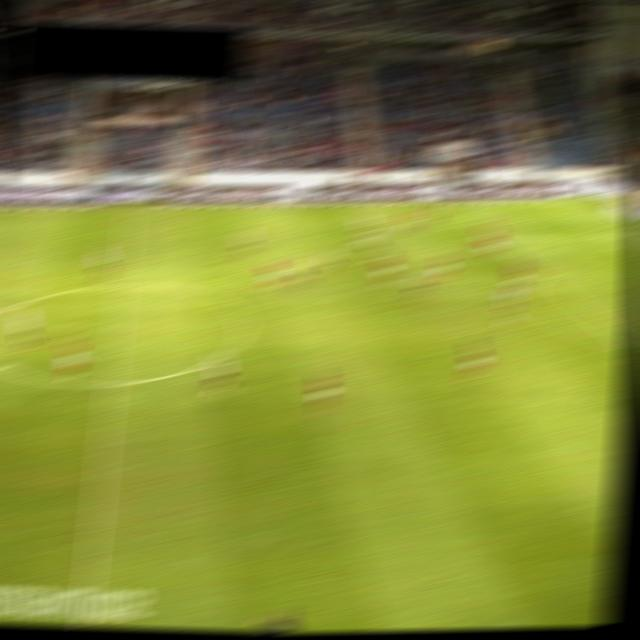bigarea_top_inner: (486, 233, 509, 244)
bottom_arc_area_intersection: (619, 342, 633, 352)
corner: (578, 196, 601, 207)
halfcircle_bottom: (99, 378, 122, 389)
halfcircle_top: (110, 279, 133, 291)
midline_top_intersection: (118, 204, 142, 216)
top_arc_area_intersection: (536, 274, 560, 285)
